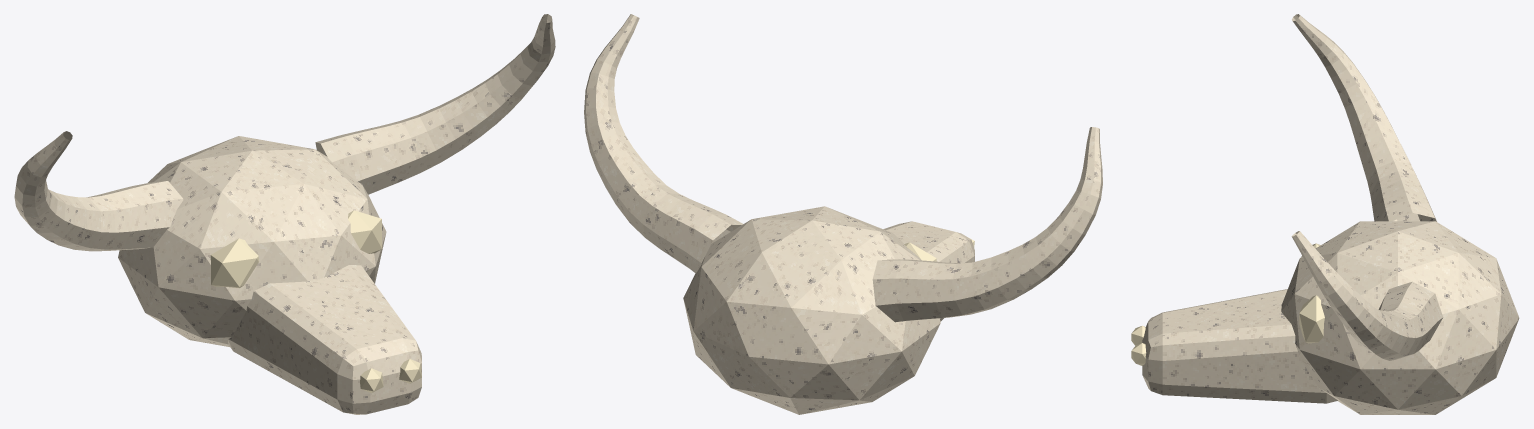
The model's file is desert_skull.glb.
3 renders of one model, left to right at view 1: azimuth 30°, elevation 25°; view 2: azimuth 150°, elevation 25°; view 3: azimuth 270°, elevation 25°, orthographic. The views are drawn at different scales.
Visible parts, largest first — view 1: Skull, Holes; view 2: Skull; view 3: Skull, Holes.
Boxes of the visible parts, <box> form: Skull: <box>14,14,555,414</box>; Holes: <box>210,210,421,393</box>; Skull: <box>584,14,1102,414</box>; Skull: <box>1142,14,1519,414</box>; Holes: <box>1131,243,1324,365</box>.
Bounding box in the file's own units: 2.99 × 1.64 × 2.05.
2 materials, 1 textured.
